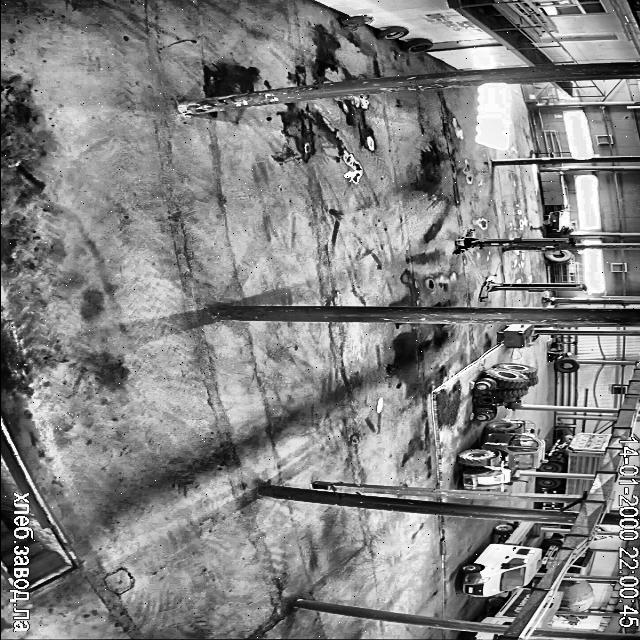class6: (458, 420, 544, 489), (474, 362, 538, 420)
class7: (460, 521, 541, 596), (540, 432, 612, 473), (480, 588, 532, 624), (557, 580, 594, 612), (538, 477, 592, 494), (538, 593, 560, 628), (541, 536, 563, 570), (567, 549, 595, 574), (466, 632, 500, 640), (541, 499, 568, 508), (566, 504, 580, 511), (564, 616, 578, 620)
tractor: (340, 15, 372, 30)
truck: (454, 230, 574, 253), (479, 275, 586, 300)
